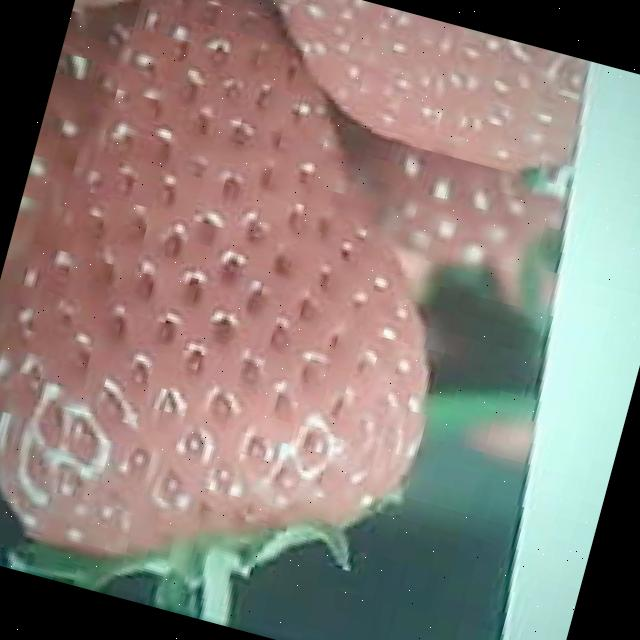strawberry: (0, 0, 517, 633)
